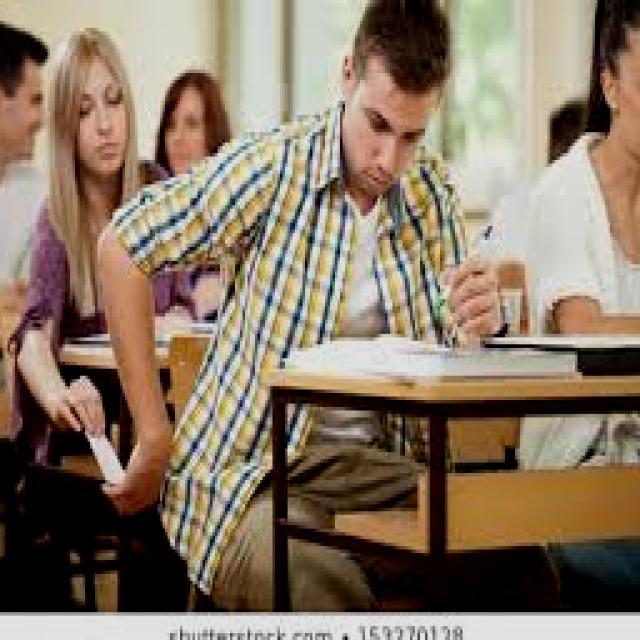cheating: (35, 366, 189, 534)
good: (277, 0, 519, 384)
